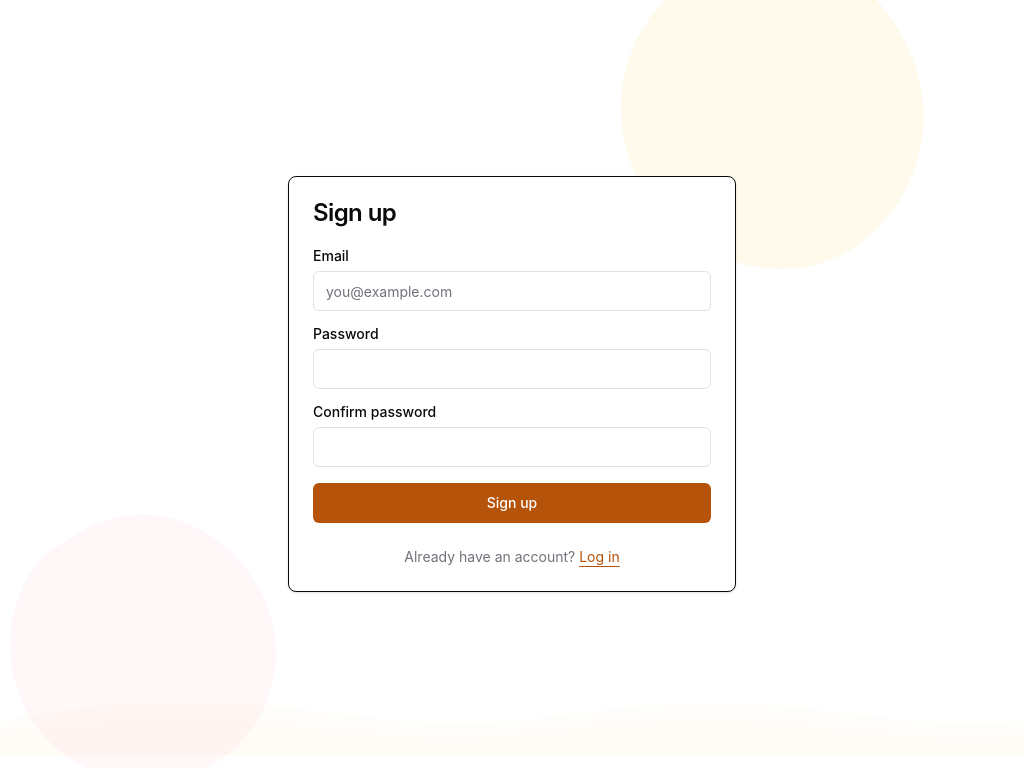
it: SignupView › shows email format error on blur with invalid email
Type "not-an-email" into the field with id "signup-email" at (512, 291), box [313,271,711,311]
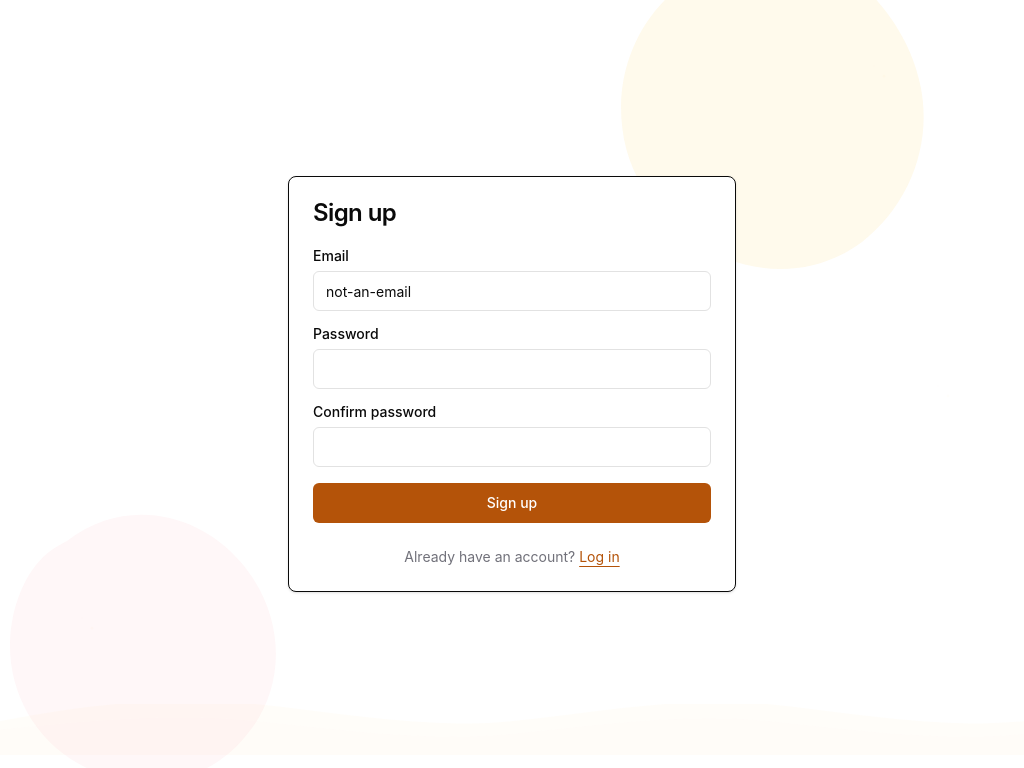
Leave the field with id "signup-email", box [313,271,711,311]
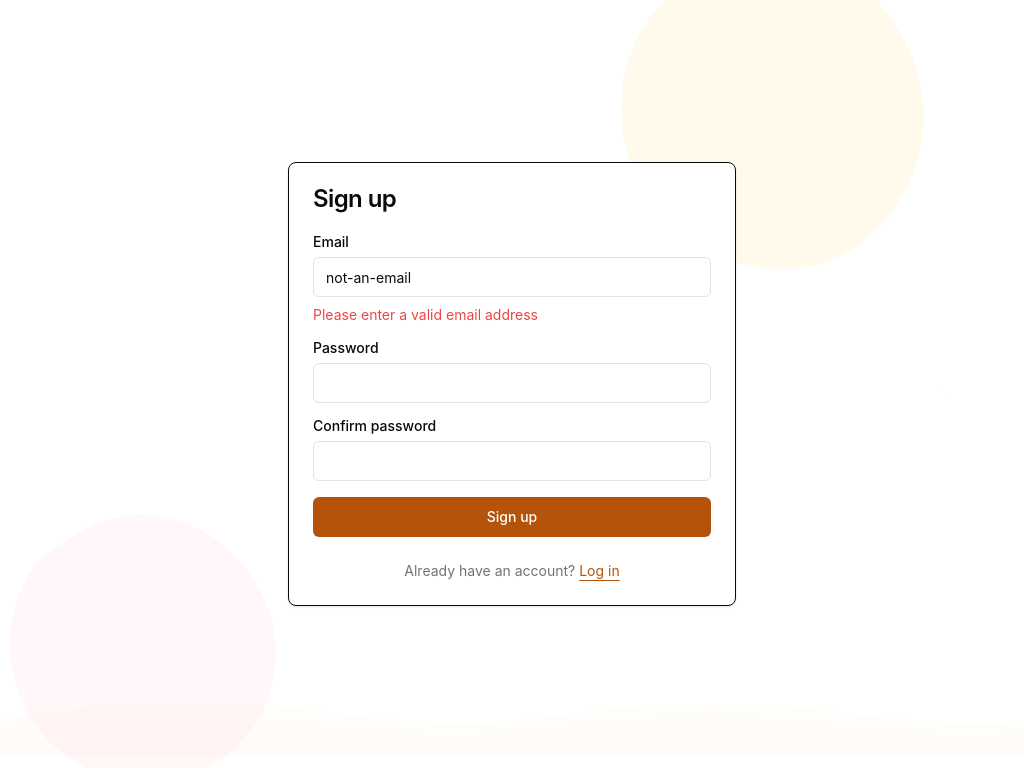
Now the text "Please enter a valid email address" is shown, box [313,306,538,323]
